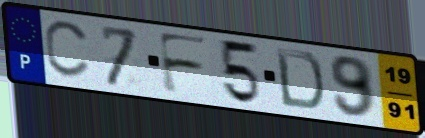5: (215, 36, 263, 107)
7: (100, 24, 139, 88)
9: (328, 54, 380, 120)
C: (42, 19, 93, 82)
D: (273, 45, 327, 113)
F: (155, 30, 211, 97)
